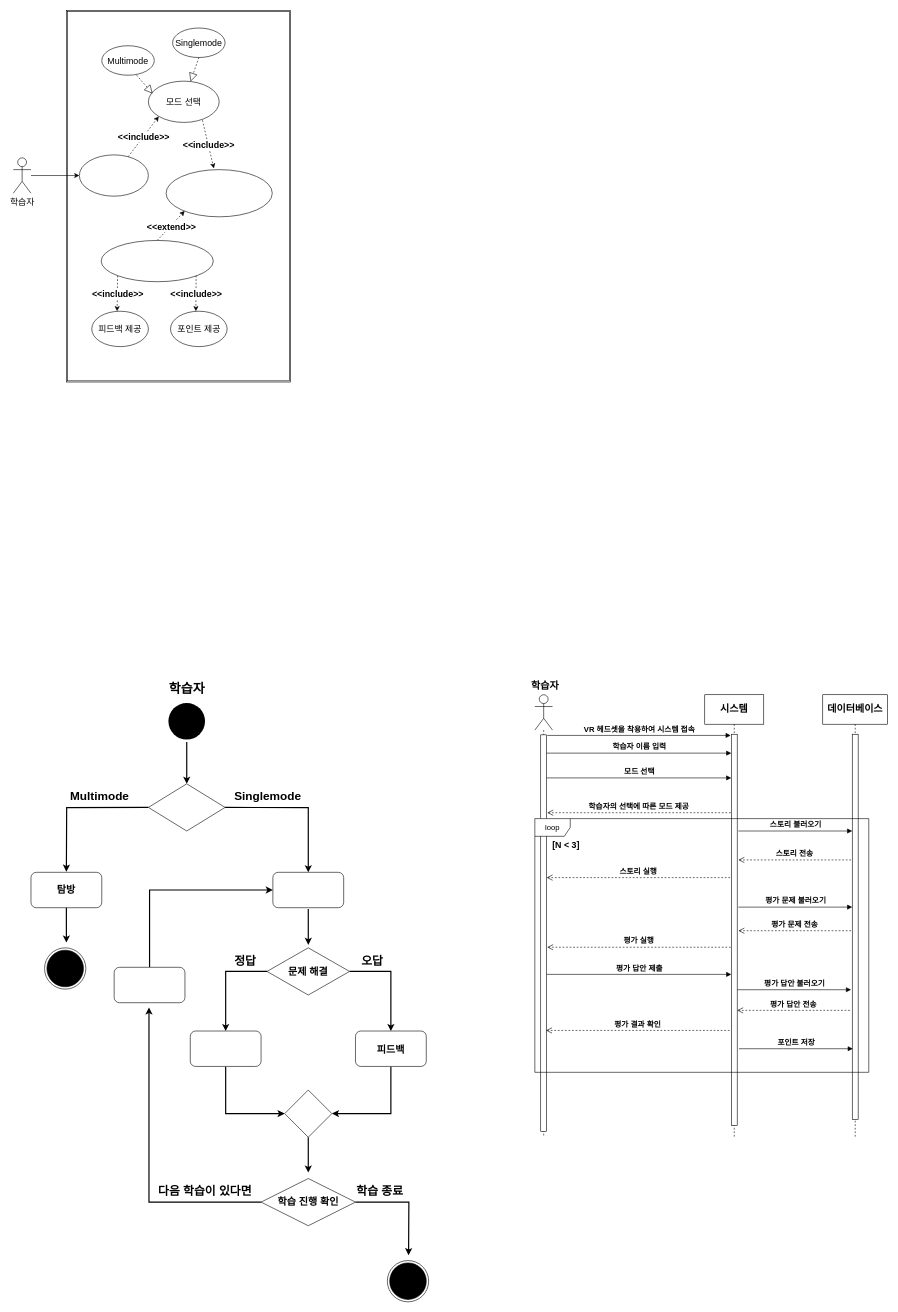
This 898x1312 diagram has some shape labels left out. The centre of each missing label's shape, as x and y in pixels:
"다음 장소 이동" belongs at point (149, 985).
"상황에 맞는 스토리를 진행" belongs at point (218, 193).
"상황에 맞는 평가 문제 출력" belongs at point (157, 261).
"선택" belongs at point (186, 807).
"시스템 구동" belongs at point (113, 175).
"포인트 획득" belongs at point (225, 1048).
"학습 진행" belongs at point (308, 890).
